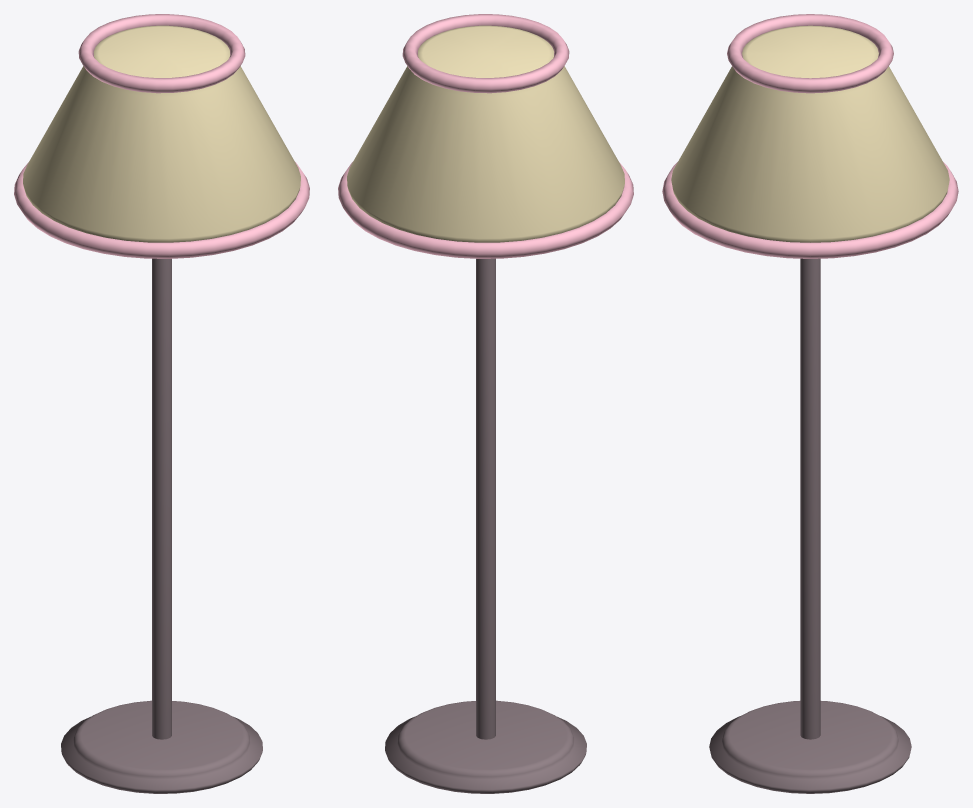
Rendered from floorlamp.glb.
3 renders of one model, left to right at view 1: azimuth 30°, elevation 25°; view 2: azimuth 150°, elevation 25°; view 3: azimuth 270°, elevation 25°, orthographic.
Parts seen in each view (by area): view 1: shade, c8a7a80, cffc4d6; view 2: shade, c8a7a80, cffc4d6; view 3: shade, c8a7a80, cffc4d6.
Part boxes in pixels (x1,y1,x2,y2): shade: (23, 25, 300, 242); c8a7a80: (61, 258, 262, 793); cffc4d6: (14, 14, 309, 258); shade: (347, 25, 624, 242); c8a7a80: (385, 258, 586, 793); cffc4d6: (338, 14, 633, 258); shade: (671, 25, 949, 242); c8a7a80: (709, 258, 911, 793); cffc4d6: (662, 14, 958, 258).
Bounding box in the file's own units: 1.17 × 3.08 × 1.17.
